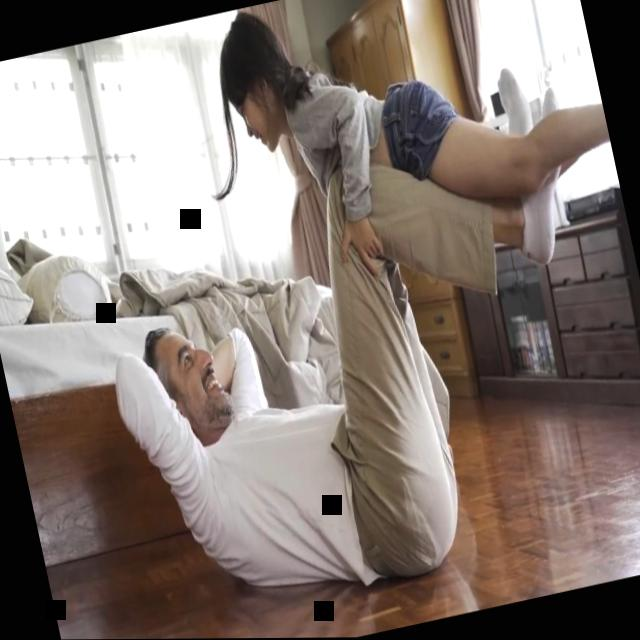NO-Mask: (154, 320, 238, 440), (230, 78, 282, 159)
